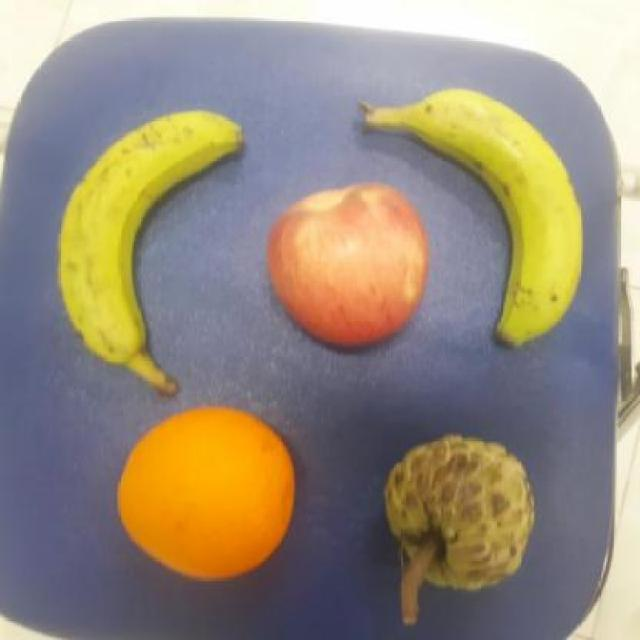apple: (266, 179, 434, 339)
banana: (360, 86, 582, 346), (57, 108, 246, 385)
oren: (114, 404, 295, 581)
sugar apple: (384, 433, 535, 590)
